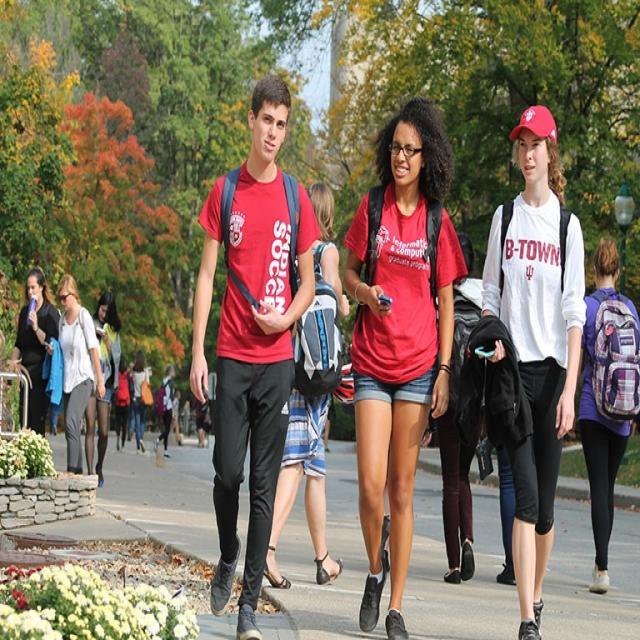body: (185, 75, 327, 639), (338, 92, 472, 638), (474, 102, 588, 638), (262, 182, 351, 592), (577, 233, 640, 596), (433, 229, 485, 585), (39, 360, 220, 449), (42, 272, 106, 473), (2, 265, 64, 440), (469, 410, 522, 590), (84, 289, 122, 491), (131, 348, 156, 457), (109, 351, 135, 455), (152, 364, 176, 461), (320, 395, 331, 463)
